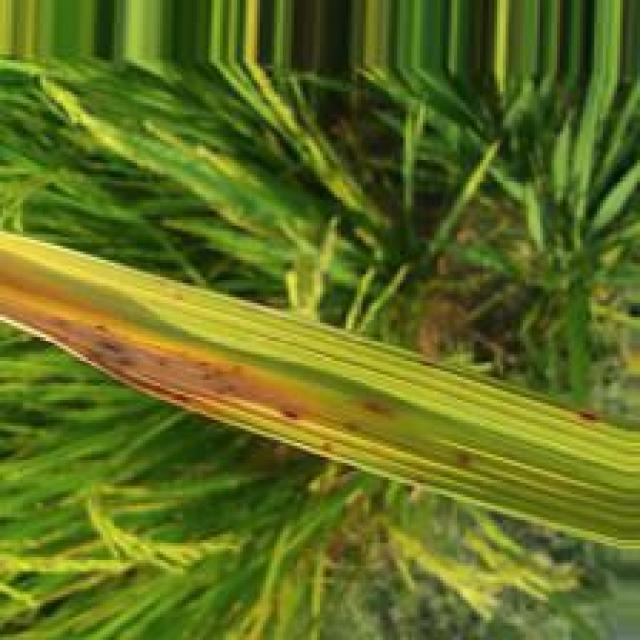Bacterial_Leaf_Blight: (0, 248, 408, 454)
